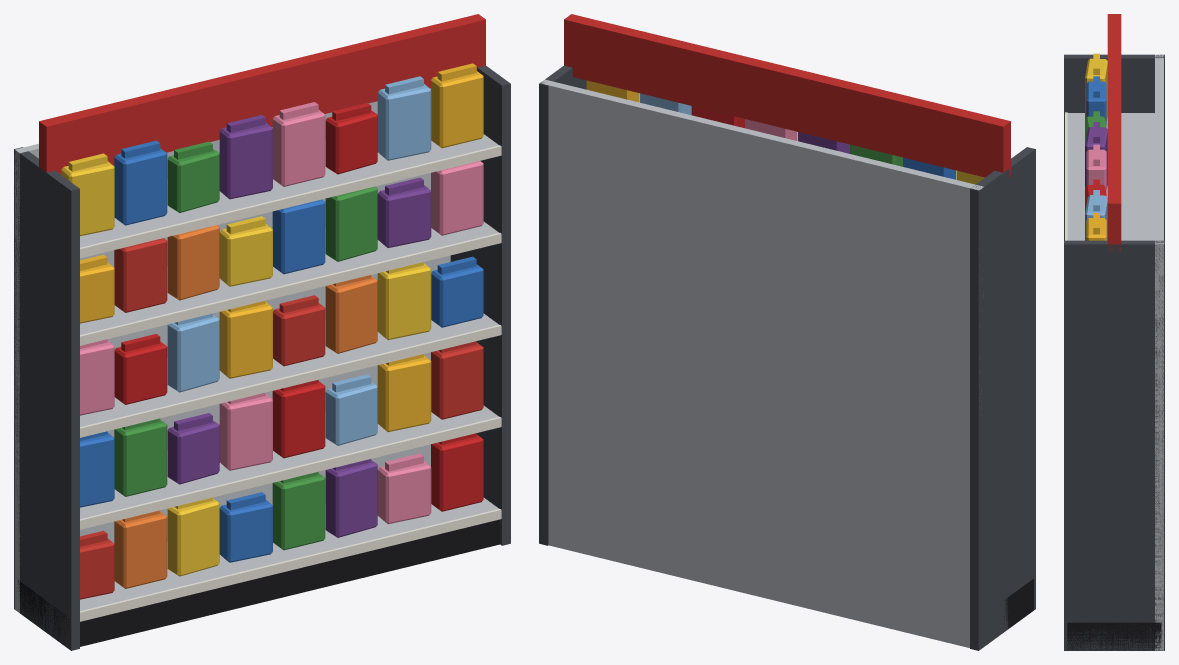
File: Shelf_Snack_Wall_Station.glb
3 views of the same model, side by side, from view 1: azimuth 30°, elevation 25°; view 2: azimuth 150°, elevation 25°; view 3: azimuth 270°, elevation 25° (orthographic). The views are drawn at different scales.
Visible parts, largest first — view 1: Shelf_Snack_Wall_Station; view 2: Shelf_Snack_Wall_Station; view 3: Shelf_Snack_Wall_Station.
Part boxes in pixels (x1,y1,x2,y2): Shelf_Snack_Wall_Station: (14, 14, 510, 650); Shelf_Snack_Wall_Station: (539, 14, 1035, 650); Shelf_Snack_Wall_Station: (1064, 14, 1164, 650).
Size of the model in its own units: 2 by 2.2 by 0.45.
1 material, 1 textured.
